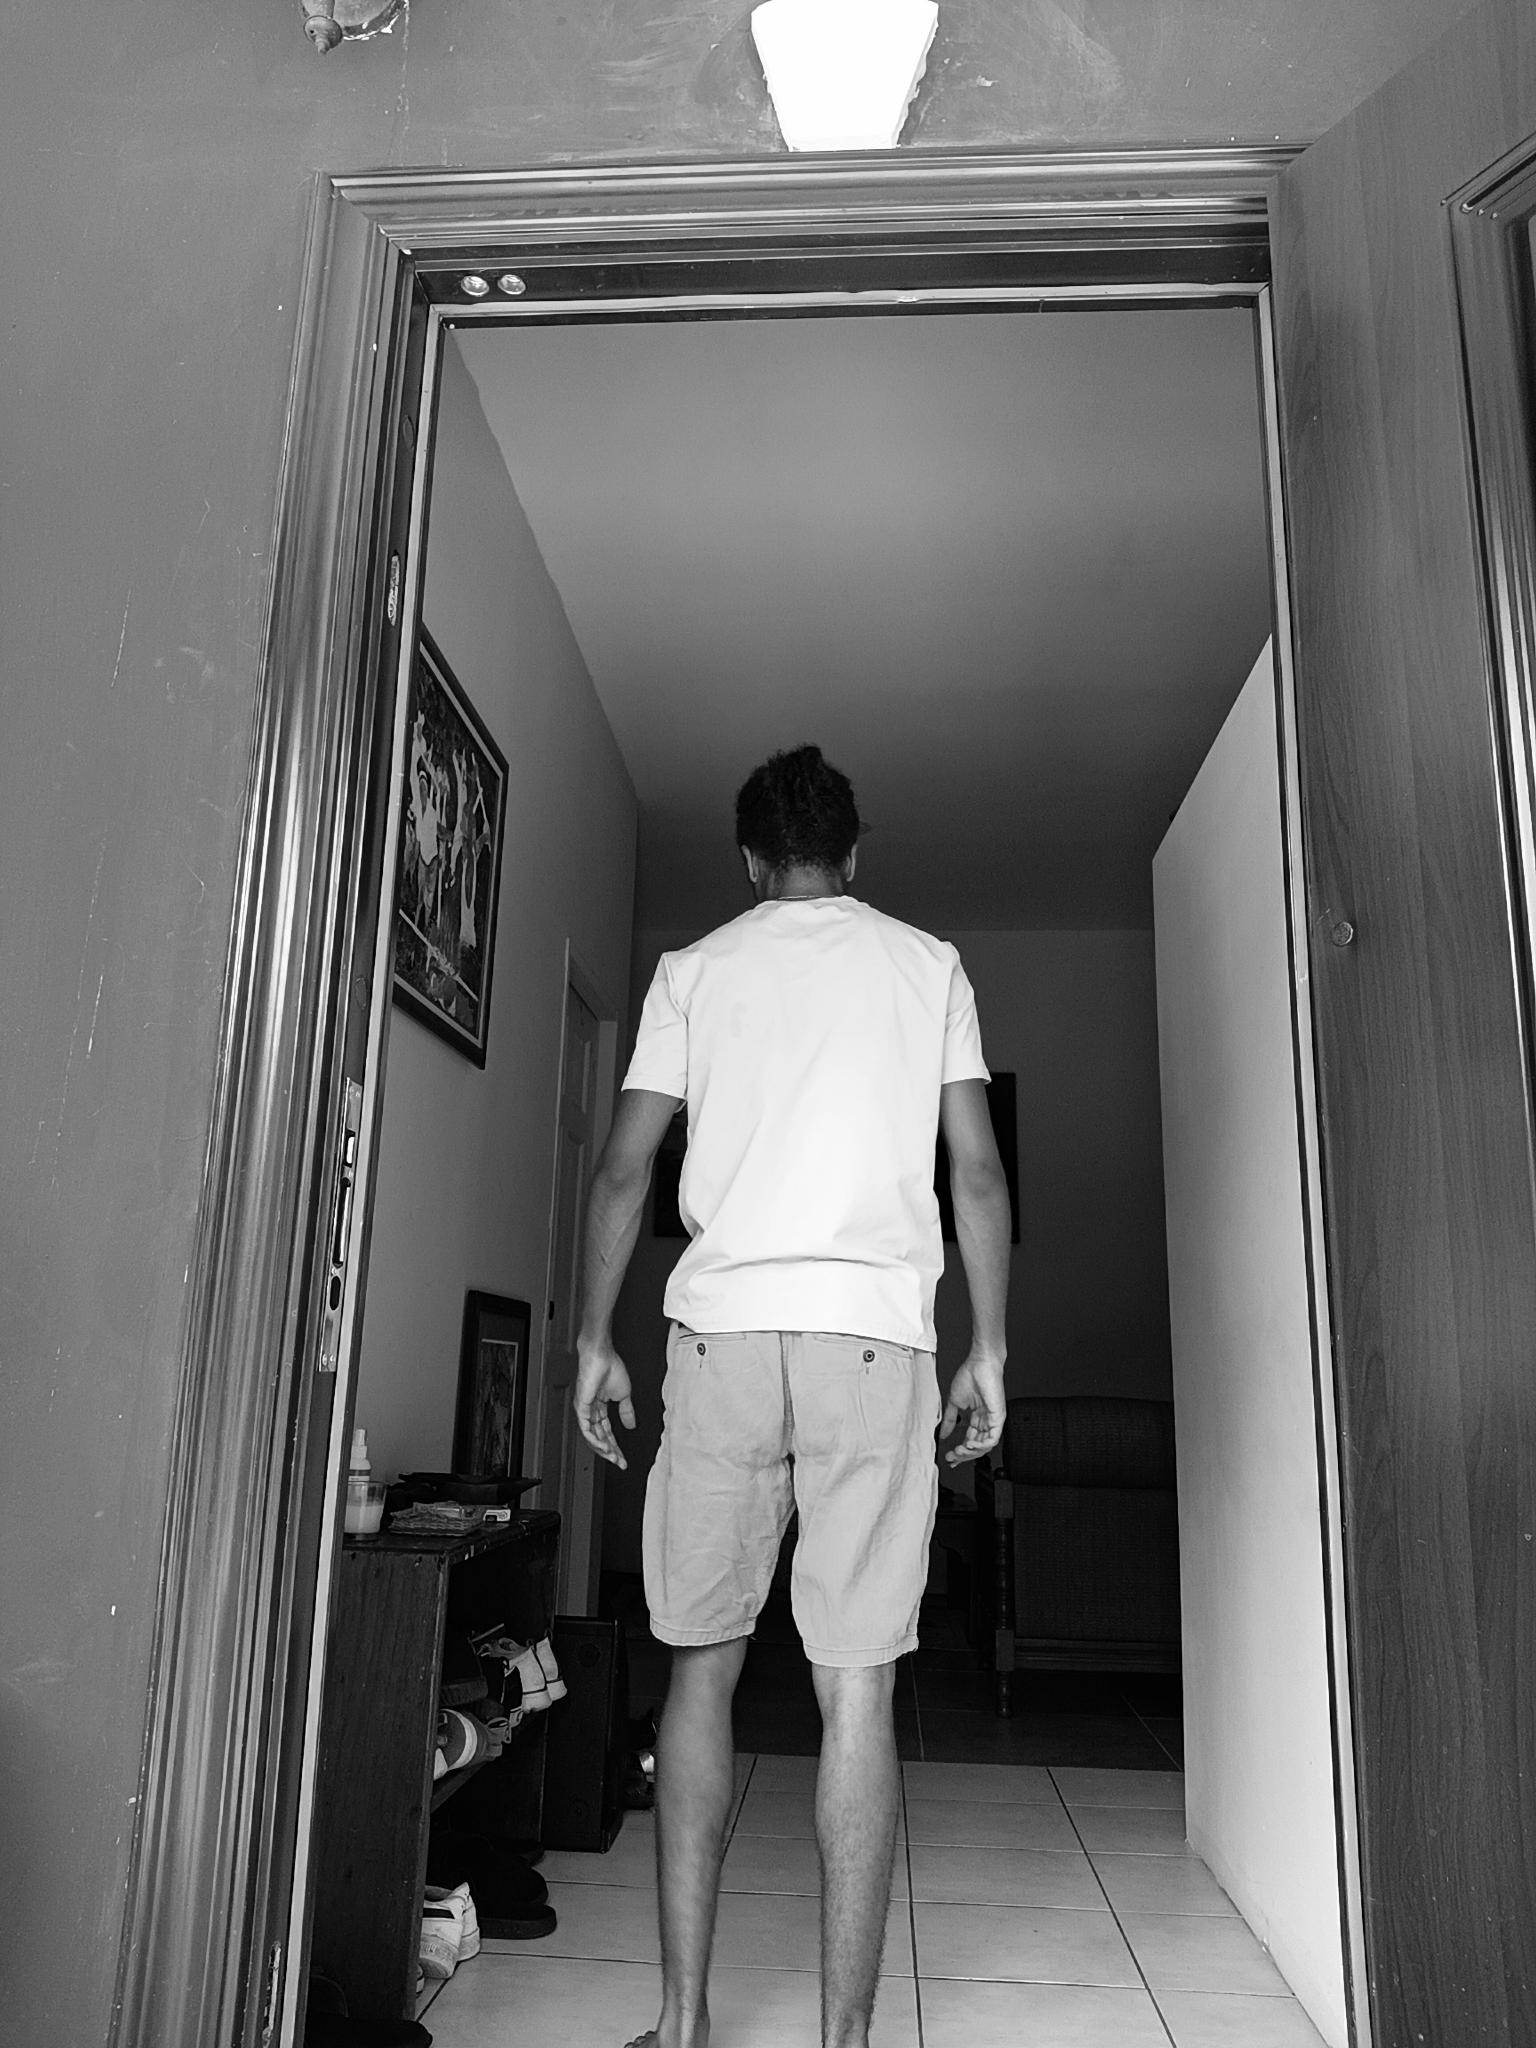back: (565, 739, 1018, 2040)
